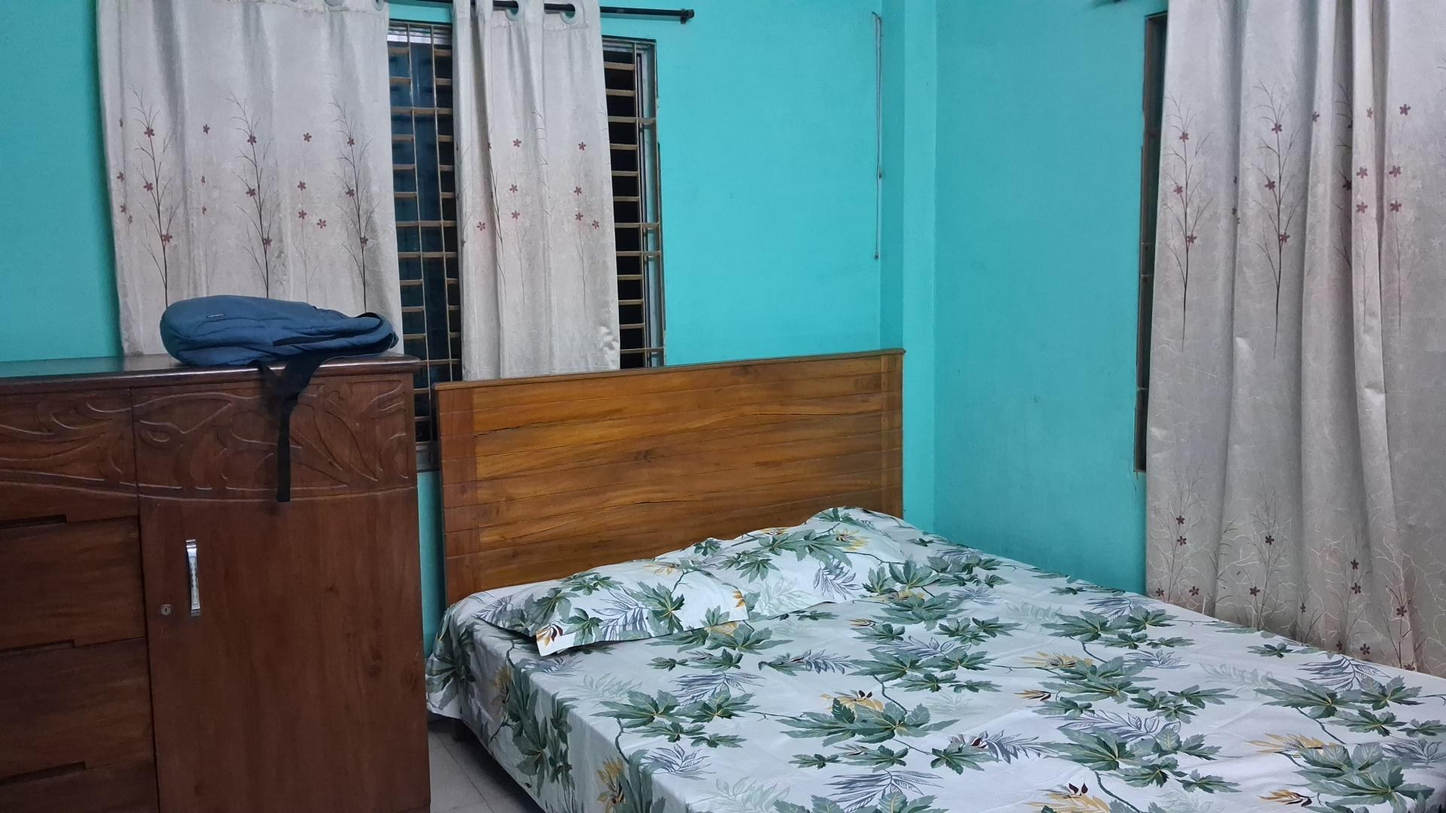Bag: (162, 292, 399, 371)
Pillow: (481, 559, 746, 653), (681, 521, 935, 615)
Window: (385, 15, 662, 370)
